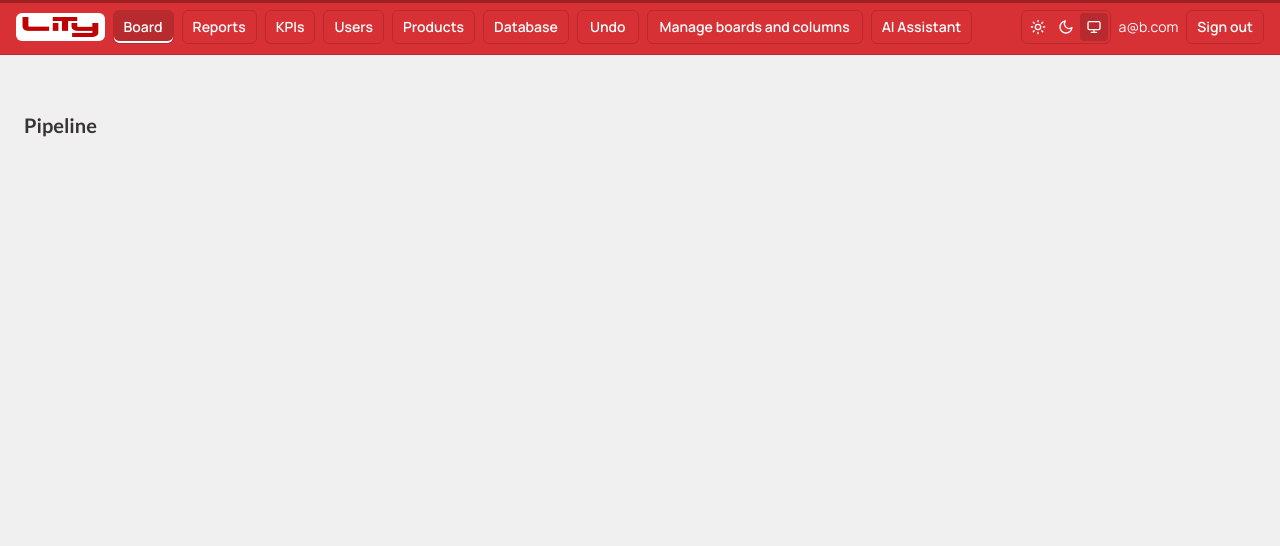
Scenario: CentralApp sections › opens Database from the top navigation with both existing actions, and not the board
expect the element with test id "central-board" is shown: met, box [24,113,97,137]
What coordinates should you click on to do the following:
click the button "Database"
I would click on:
 (526, 27)
Its box is [483,10,569,44].
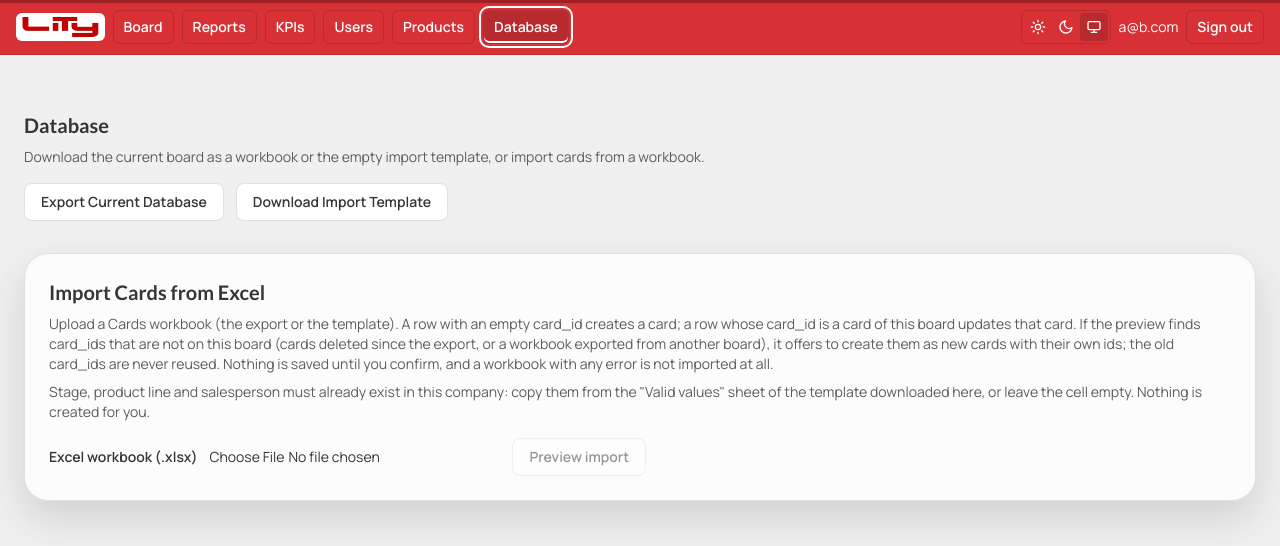
expect the button "Export Current Database" is enabled: met, box [24,183,224,221]
expect the button "Download Import Template" is enabled: met, box [236,183,448,221]
expect the element with test id "central-board" is gone: met
